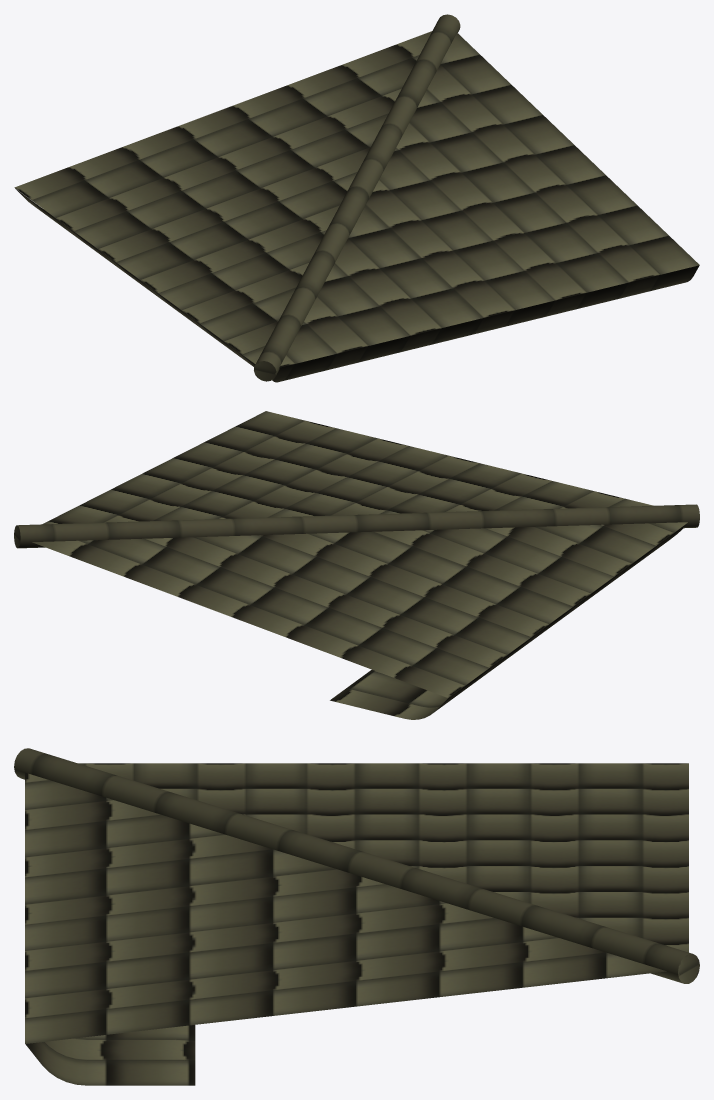
Rendered from NNJ0510060.fbx.
The picture shows the model from 3 angles, top to bottom: view 1: azimuth 30°, elevation 25°; view 2: azimuth 150°, elevation 25°; view 3: azimuth 270°, elevation 25°; orthographic projection. The views are drawn at different scales.
Parts seen in each view (by area): view 1: smNNJ0510060; view 2: smNNJ0510060; view 3: smNNJ0510060.
Boxes of the visible parts, x1=… form: smNNJ0510060: x1=14, y1=14, x2=699, y2=382; smNNJ0510060: x1=14, y1=411, x2=699, y2=719; smNNJ0510060: x1=14, y1=748, x2=699, y2=1085.
Size of the model in its own units: 381 by 80.16 by 381.
1 material, 1 textured.
